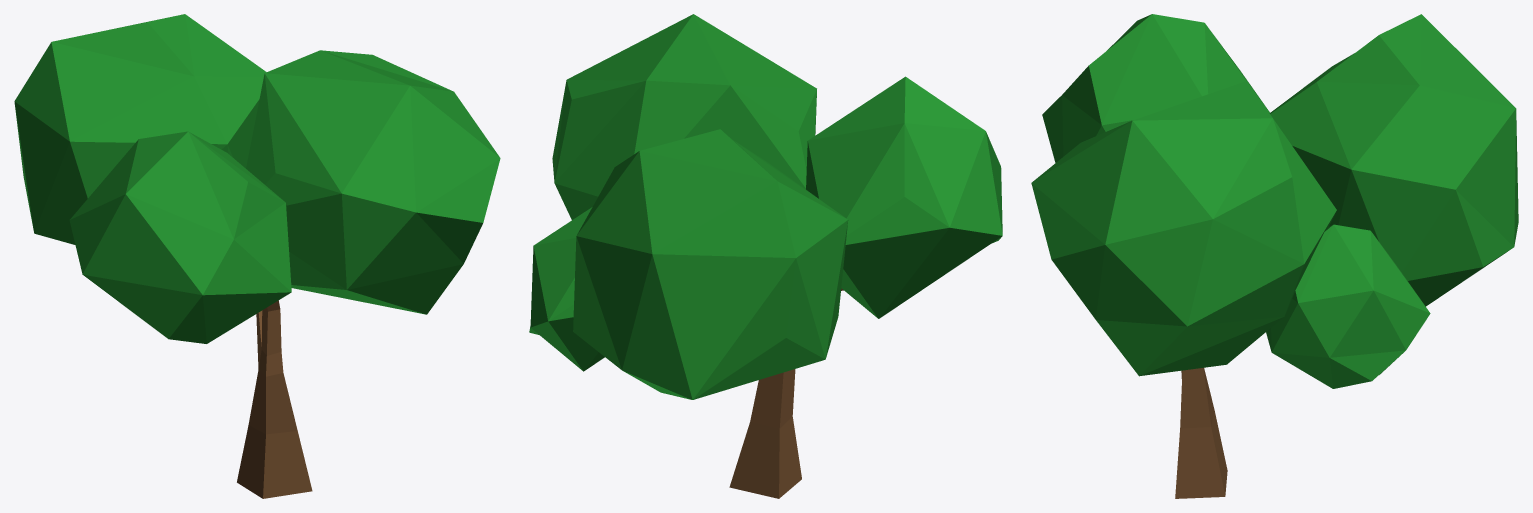
The model's file is tree.glb.
The picture shows the model from 3 angles, left to right: view 1: azimuth 30°, elevation 25°; view 2: azimuth 150°, elevation 25°; view 3: azimuth 270°, elevation 25°; orthographic projection. The views are drawn at different scales.
Parts seen in each view (by area): view 1: crown1, trunk1; view 2: crown1, trunk1; view 3: crown1, trunk1.
Boxes of the visible parts, box(x1,y1,x2,y2) form: crown1: box(14, 14, 500, 343); trunk1: box(237, 300, 312, 498); crown1: box(529, 14, 1002, 399); trunk1: box(729, 288, 843, 498); crown1: box(1031, 14, 1518, 388); trunk1: box(1175, 367, 1227, 498).
Bounding box in the file's own units: 0.7649 × 0.7199 × 0.7397.
